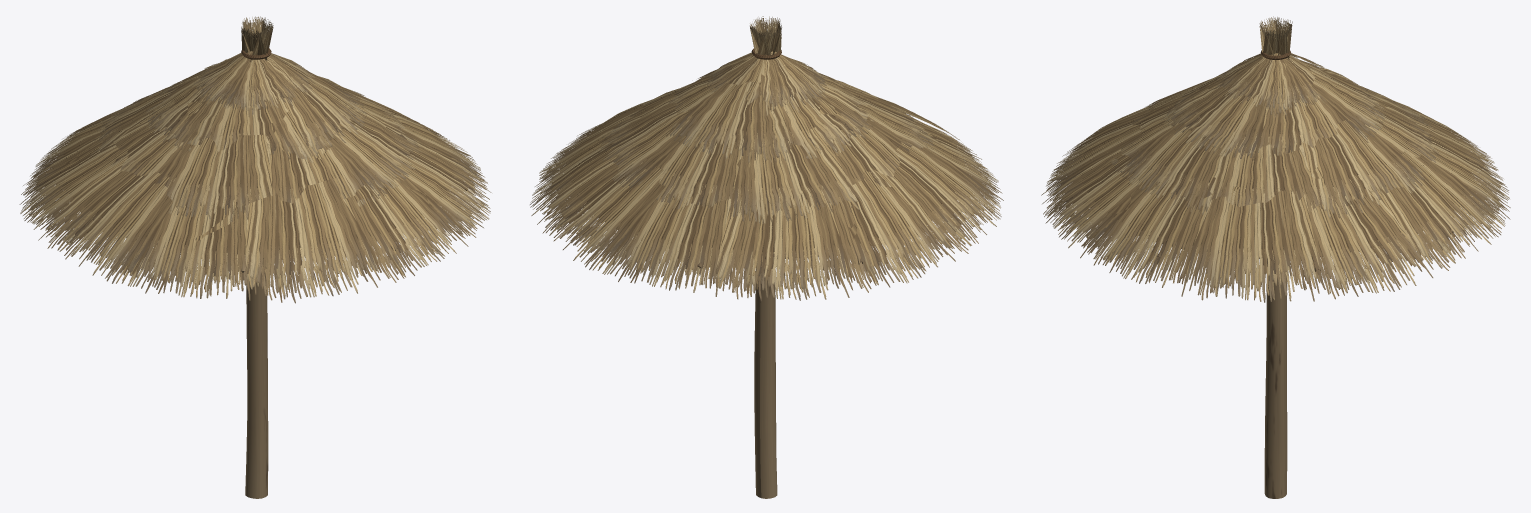
File: BeachParasol_B.gltf
3 views of the same model, side by side, from view 1: azimuth 30°, elevation 25°; view 2: azimuth 150°, elevation 25°; view 3: azimuth 270°, elevation 25° (orthographic).
Parts seen in each view (by area): view 1: BeachParasol_B; view 2: BeachParasol_B; view 3: BeachParasol_B.
Boxes of the visible parts, bbox=[...] form: BeachParasol_B: bbox=[19, 16, 491, 498]; BeachParasol_B: bbox=[530, 16, 1003, 498]; BeachParasol_B: bbox=[1041, 16, 1510, 498].
Size of the model in its own units: 3.12 by 3.38 by 3.11.
2 materials, 2 textured.
